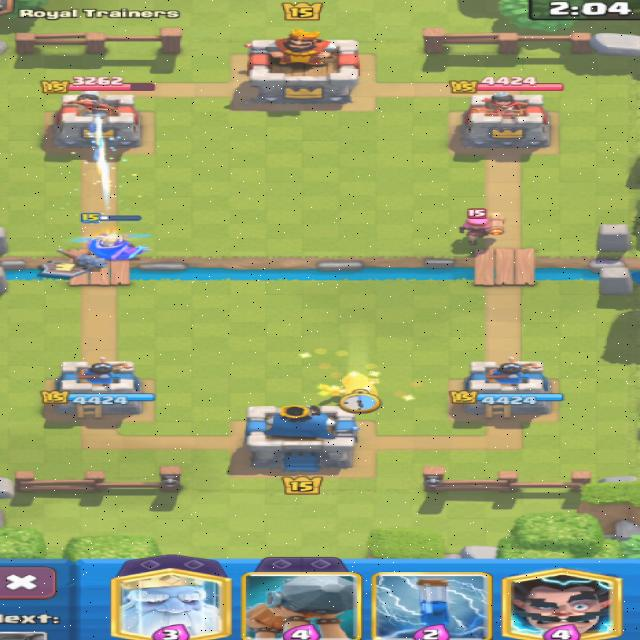Enemy-Firecracker: (458, 212, 507, 247)
Enemy-KingTower: (249, 31, 358, 106)
Enemy-PrincessTower: (461, 93, 549, 149), (52, 93, 140, 147)
Player-Bandit: (320, 372, 376, 396)
Player-KingTower: (244, 406, 358, 471)
Player-MagicArcher: (74, 232, 148, 260)
Player-PrincessTower: (40, 358, 155, 418), (463, 358, 551, 417)
